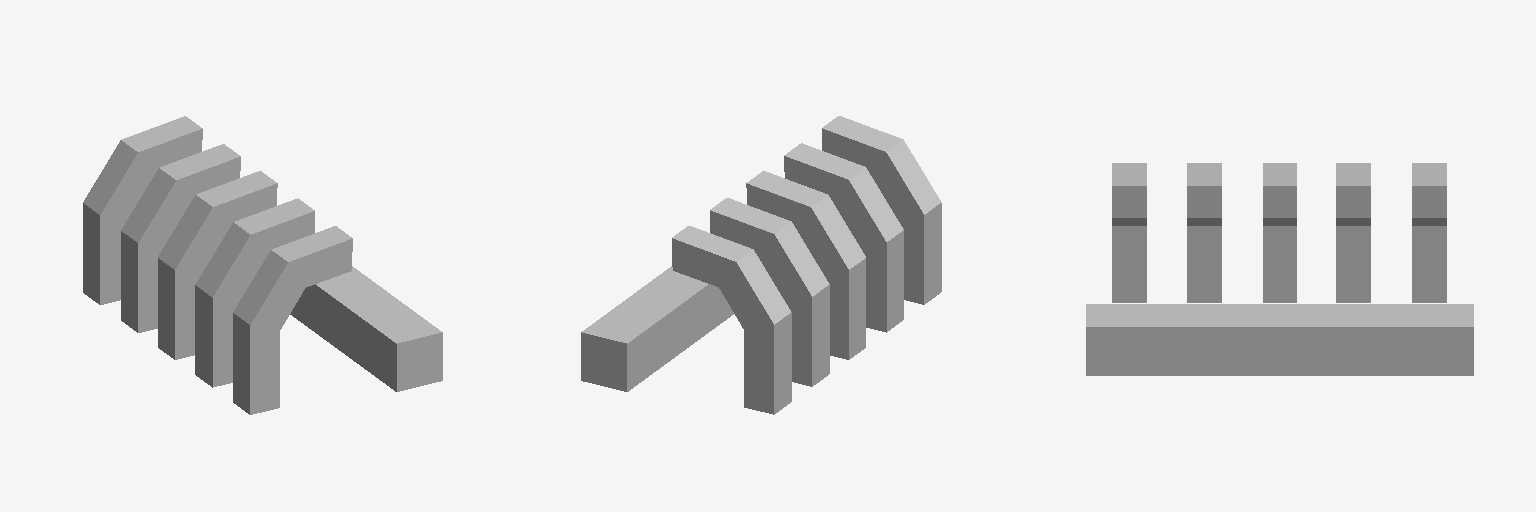
The model's file is Home.obj.
3 views of the same model, side by side, from view 1: azimuth 30°, elevation 25°; view 2: azimuth 150°, elevation 25°; view 3: azimuth 270°, elevation 25° (orthographic).
Parts seen in each view (by area): view 1: 立方体.004; view 2: 立方体.004; view 3: 立方体.004.
Boxes of the visible parts, <box> form: 立方体.004: <box>83,116,442,414</box>; 立方体.004: <box>581,116,941,414</box>; 立方体.004: <box>1086,163,1473,375</box>.
Size of the model in its own units: 7.74 by 6.26 by 14.51.